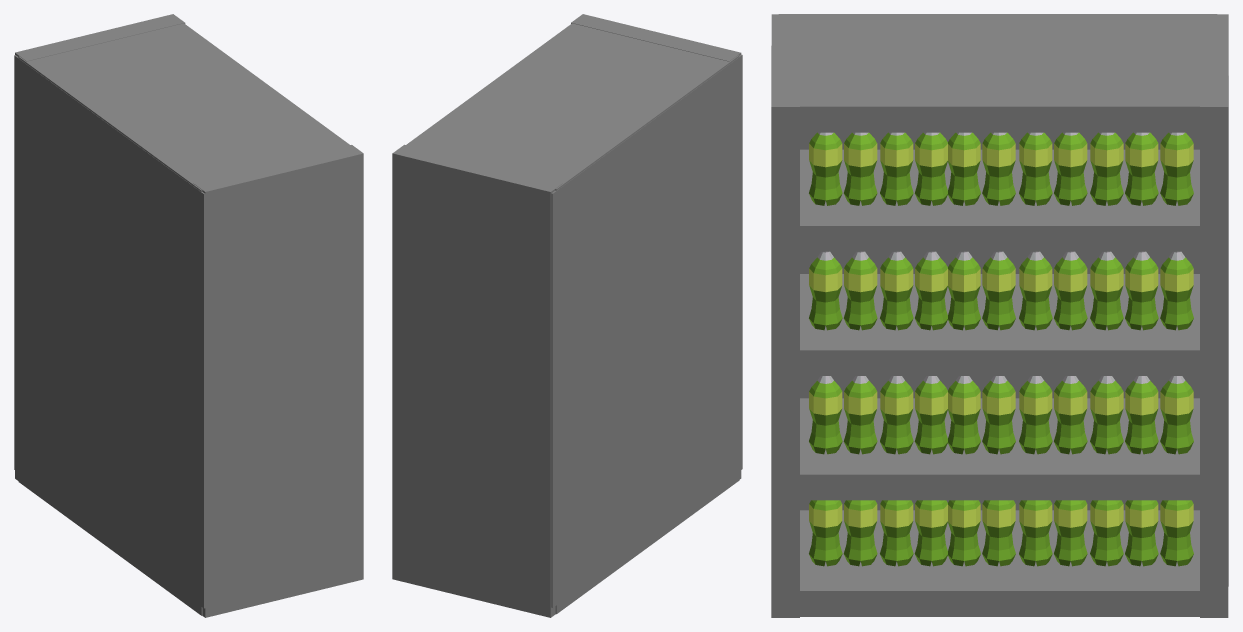
The model's file is green_twist_shelf.gltf.
The picture shows the model from 3 angles, left to right: view 1: azimuth 30°, elevation 25°; view 2: azimuth 150°, elevation 25°; view 3: azimuth 270°, elevation 25°; orthographic projection. The views are drawn at different scales.
Visible parts, largest first — view 1: Cube.003; view 2: Cube.003; view 3: Cube.003, Cube.019_Cube.024, Cube.019_Cube.005, Cube.019_Cube.022, Cube.019_Cube.026, Cube.019_Cube.023, Cube.019_Cube.002, Cube.019_Cube.021, Cube.019_Cube.025.
Boxes of the visible parts, x1,y1,x2,y2 form: Cube.003: (14,14,363,617); Cube.003: (392,14,742,617); Cube.003: (771,14,1228,617); Cube.019_Cube.024: (843,376,1193,454); Cube.019_Cube.005: (843,251,1193,330); Cube.019_Cube.022: (843,132,1193,205); Cube.019_Cube.026: (843,500,1193,566); Cube.019_Cube.023: (809,376,842,454); Cube.019_Cube.002: (809,251,842,330); Cube.019_Cube.021: (809,132,842,205); Cube.019_Cube.025: (809,500,842,566).
Bounding box in the file's own units: 4.03 × 10.28 × 8.34.
Materials: 4 (1 with a texture image).
